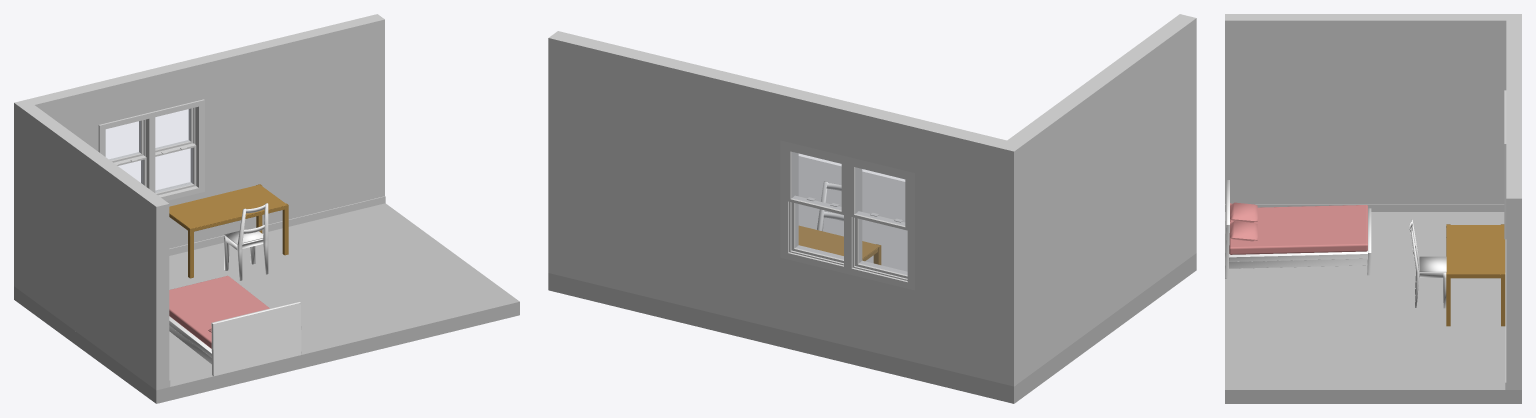
The model's file is L12_W18_furniture2_daylight3.glb.
The picture shows the model from 3 angles, left to right: view 1: azimuth 30°, elevation 25°; view 2: azimuth 150°, elevation 25°; view 3: azimuth 270°, elevation 25°; orthographic projection. The views are drawn at different scales.
Bounding box in the file's own units: 224 × 116 × 152.
